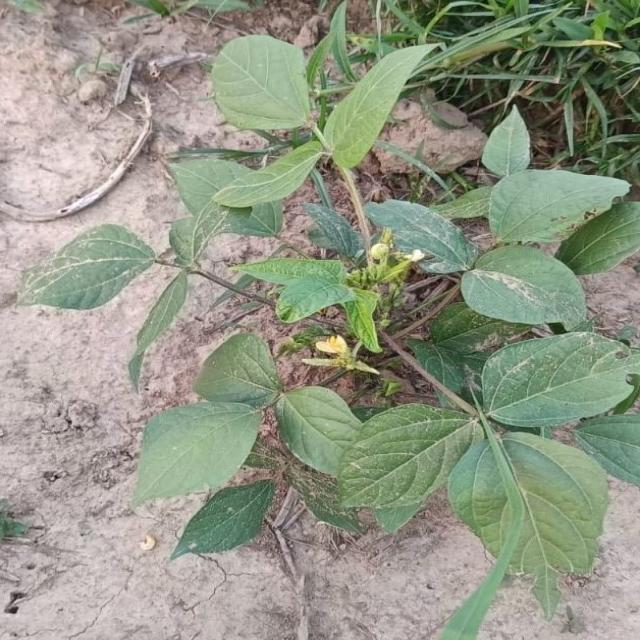plant: (129, 35, 640, 610), (18, 225, 162, 309)
